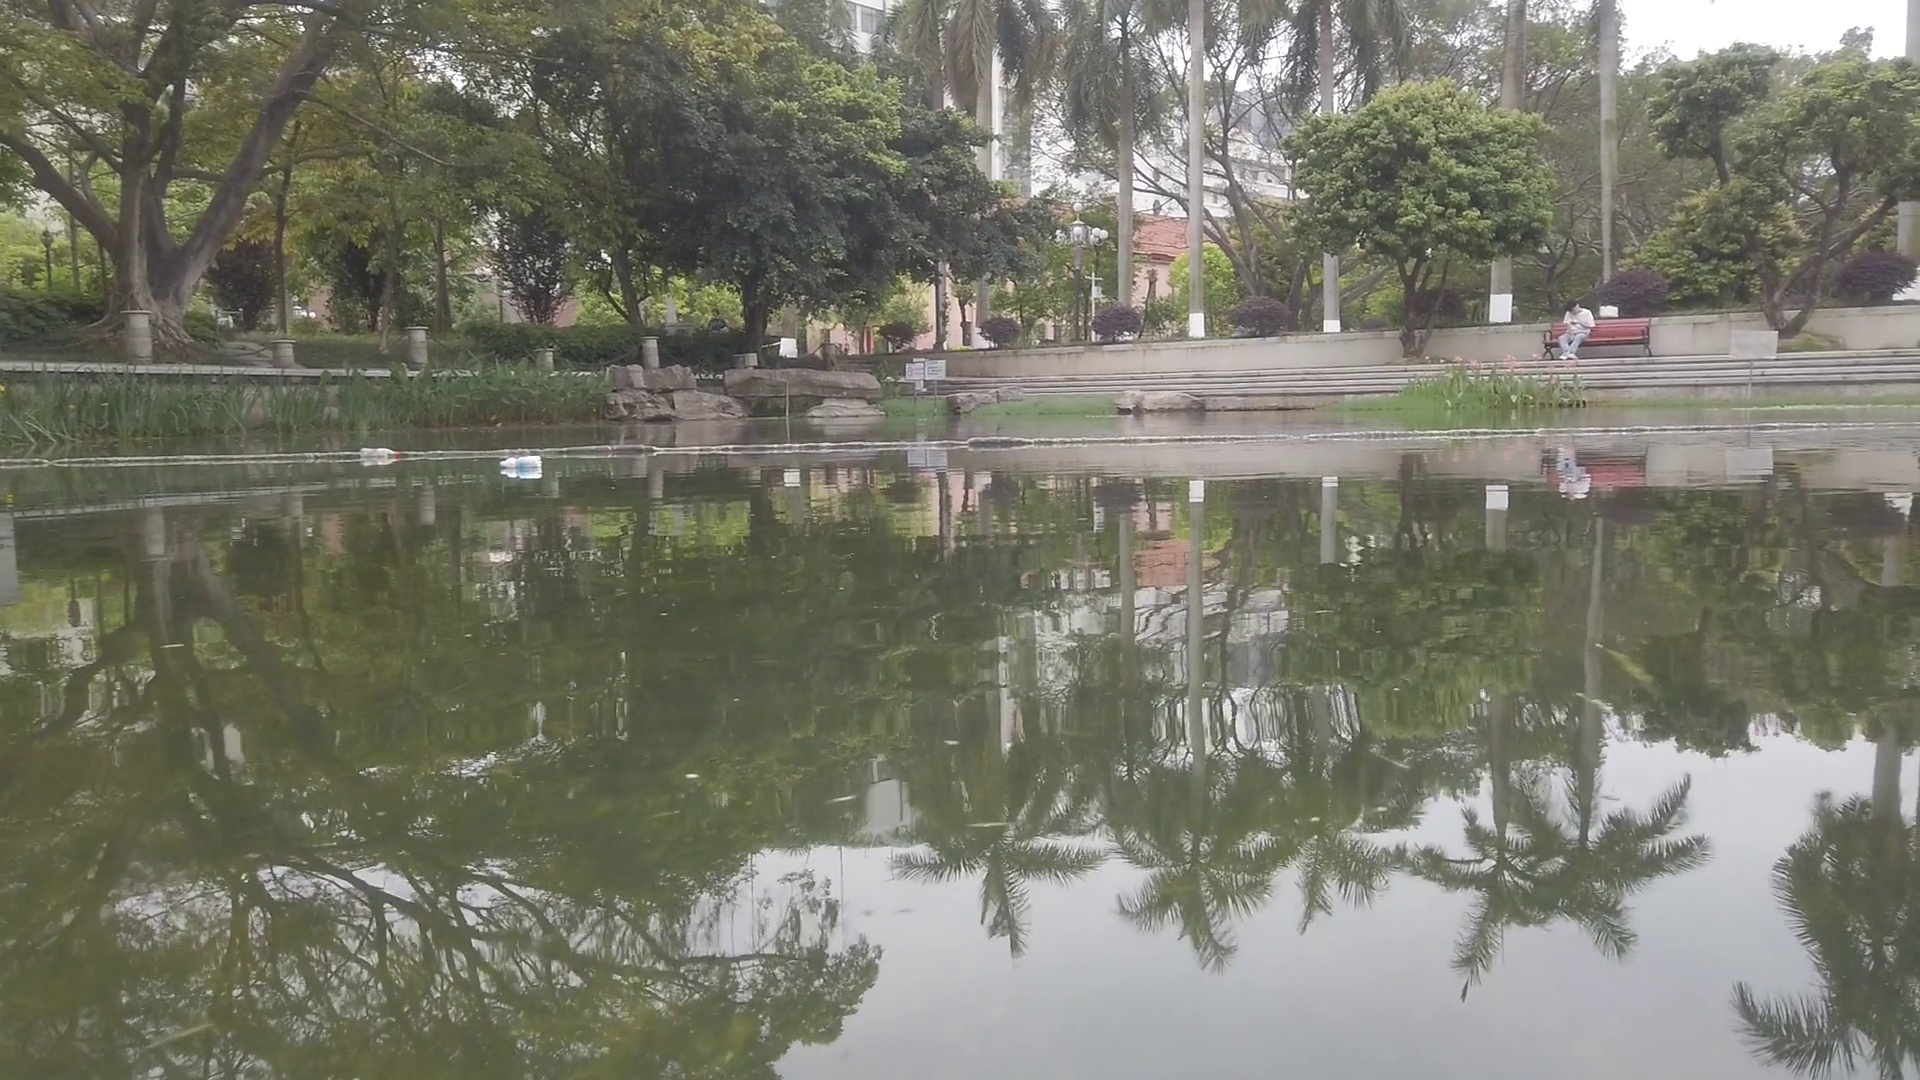bottle: (497, 452, 543, 469), (359, 444, 400, 459)
